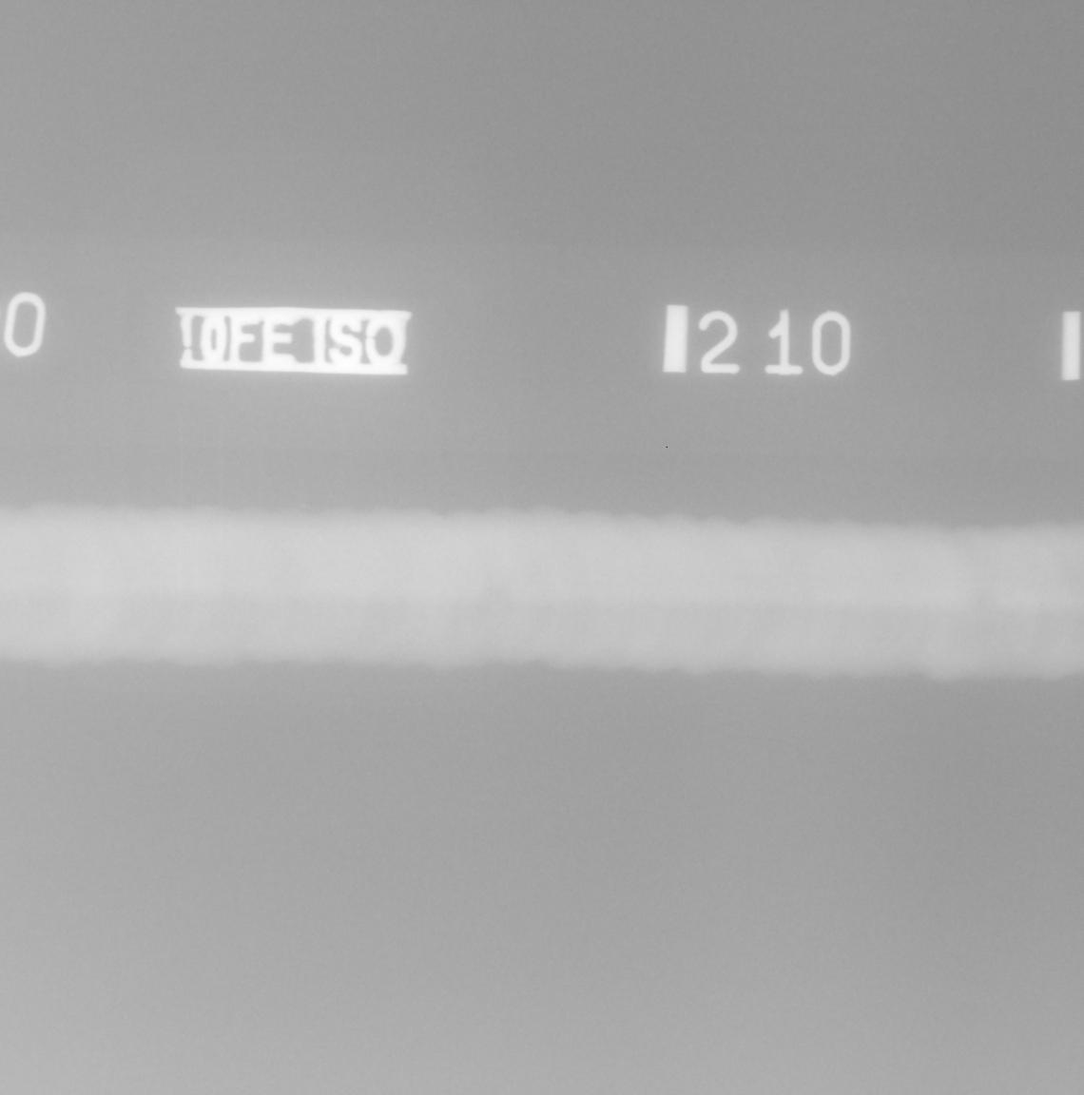Pore/Porosity: (979, 598, 986, 605), (1041, 602, 1044, 605)
